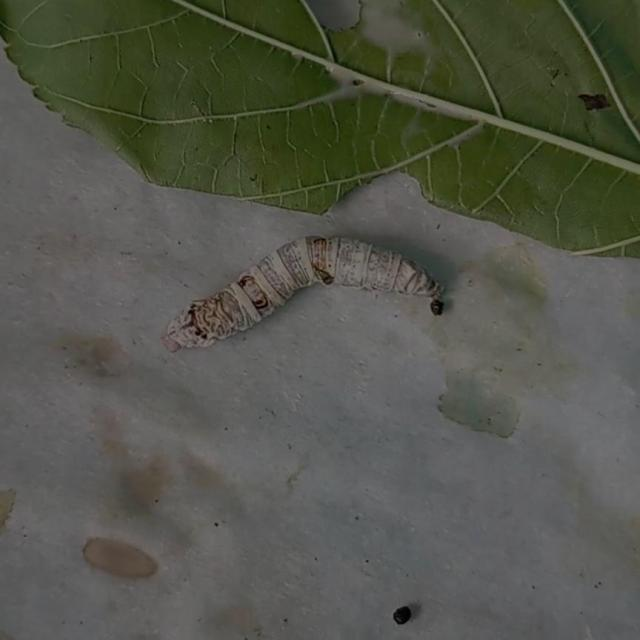Grasserie: (148, 217, 440, 358)
